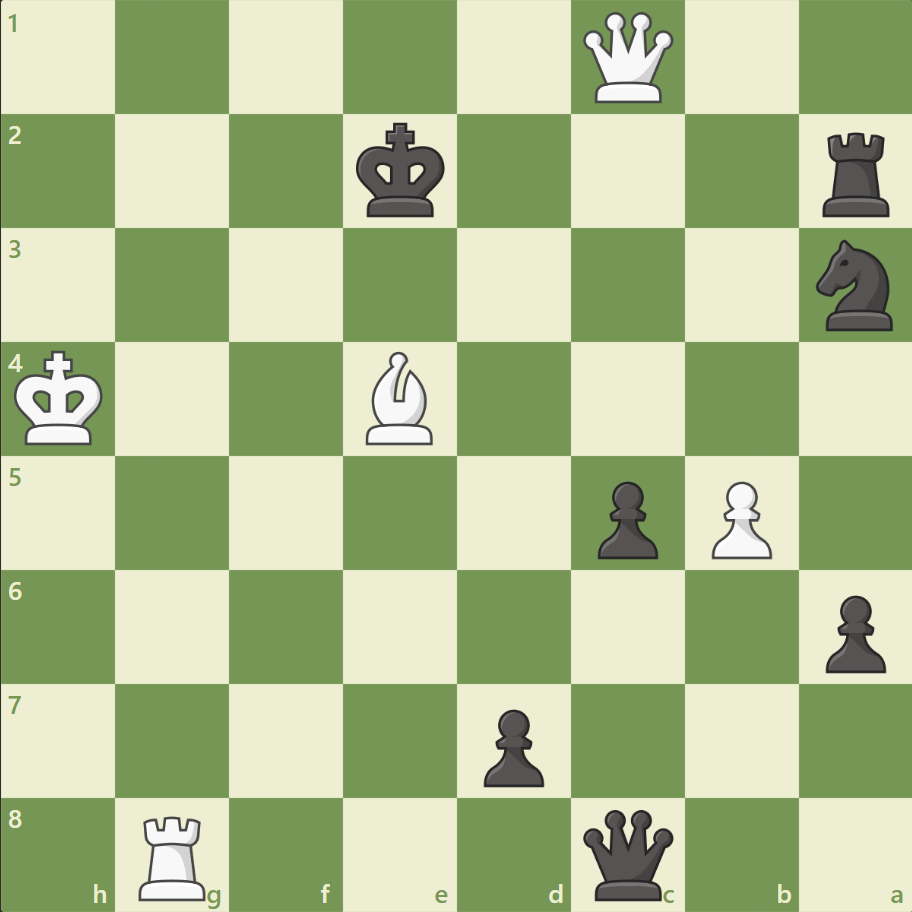B: (358, 347, 442, 449)
K: (11, 344, 111, 452)
P: (701, 473, 776, 564)
Q: (578, 9, 677, 108)
R: (133, 806, 215, 904)
k: (351, 117, 451, 225)
n: (806, 234, 903, 337)
p: (474, 700, 549, 791), (815, 586, 889, 677), (588, 473, 662, 564)
q: (578, 804, 677, 903)
r: (814, 125, 897, 222)
